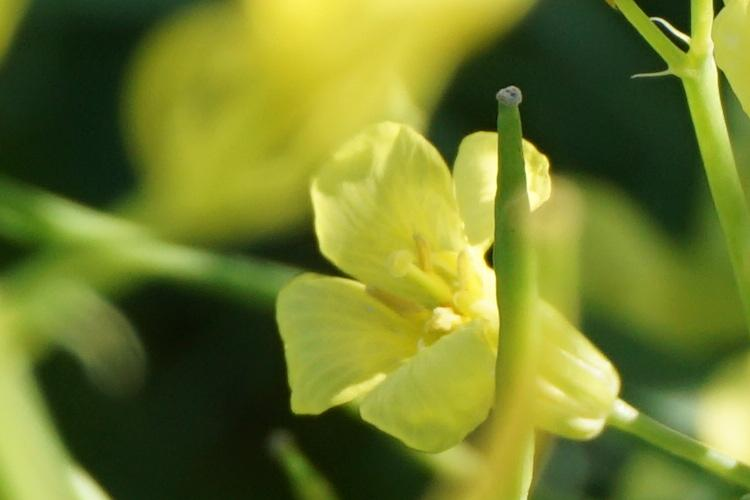pod: (477, 79, 552, 462)
yellow: (305, 130, 642, 446)
